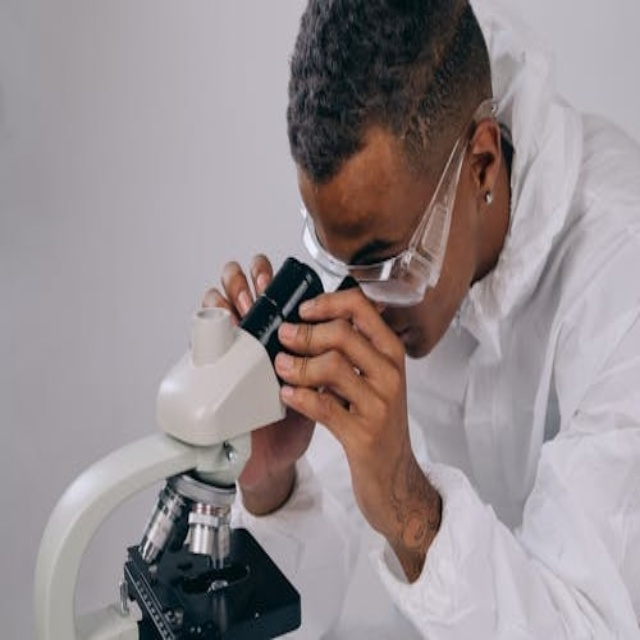Gafas: (300, 103, 492, 304)
Sin_guantes: (273, 283, 425, 537), (196, 250, 316, 486)
Sin_mascara: (387, 320, 416, 347)
